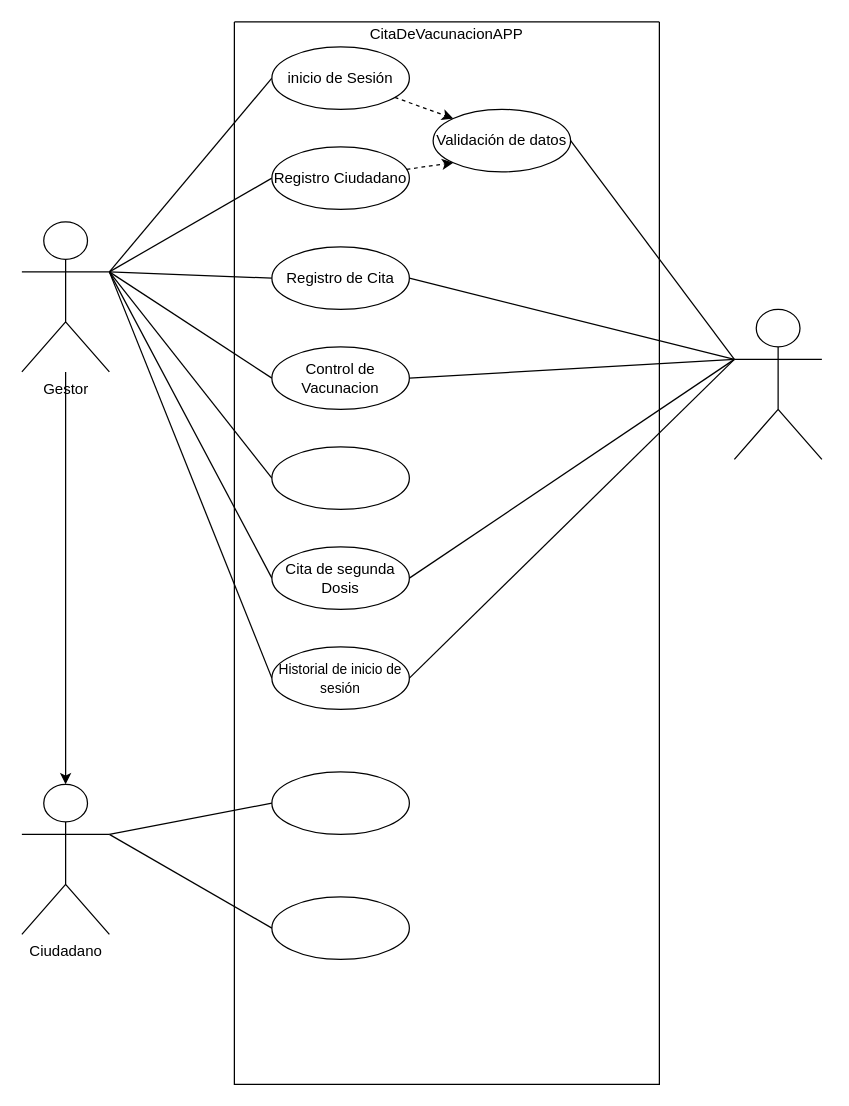
The diagram is 849 pixels wide and 1106 high, and some of its shapes have lost their labels. The shapes that lost their labels are listed below. From the top down, each one's centre as x and y in pixels, then its label:
point (777, 383): Base de Datos
point (340, 477): Control de Sintomas
point (340, 802): Aplicación primera dosis
point (340, 927): Aplicación segunda dosis
